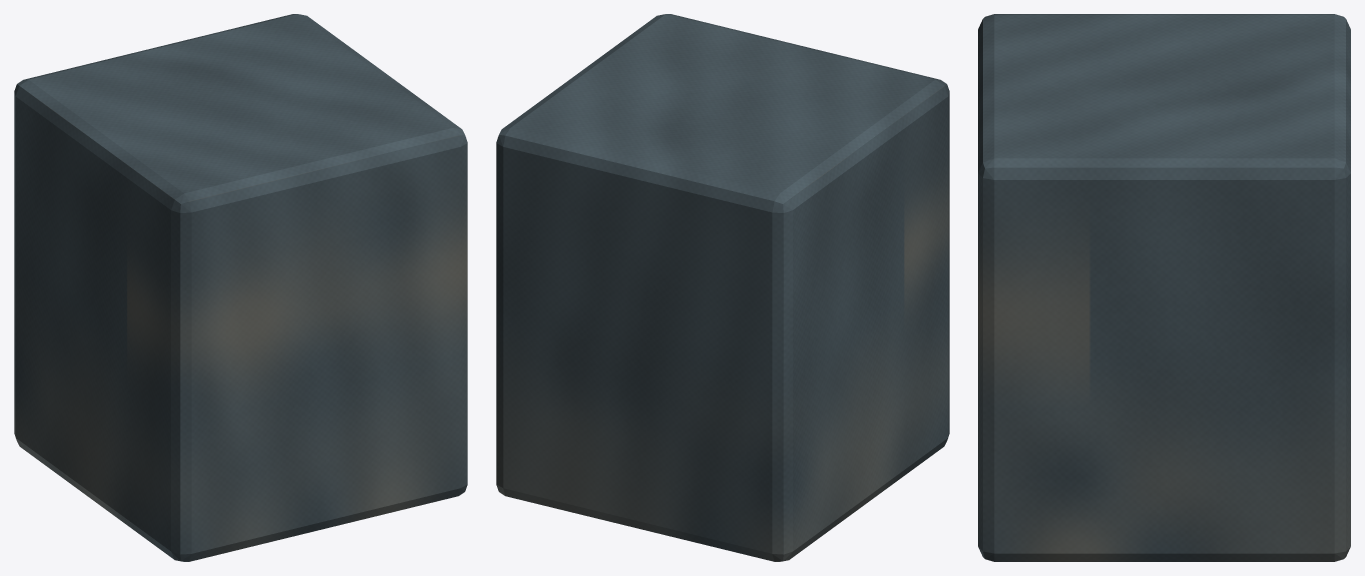
Rendered from LeftLowerLeg.fbx.
3 renders of one model, left to right at view 1: azimuth 30°, elevation 25°; view 2: azimuth 150°, elevation 25°; view 3: azimuth 270°, elevation 25°, orthographic. The views are drawn at different scales.
Visible parts, largest first — view 1: LeftLowerLeg; view 2: LeftLowerLeg; view 3: LeftLowerLeg.
Part boxes in pixels (left/top/right/bottom): LeftLowerLeg: left=14, top=14, right=467, bottom=561; LeftLowerLeg: left=496, top=14, right=949, bottom=561; LeftLowerLeg: left=978, top=14, right=1350, bottom=561.
Bounding box in the file's own units: 1 × 1.19 × 1.
1 material, 1 textured.
